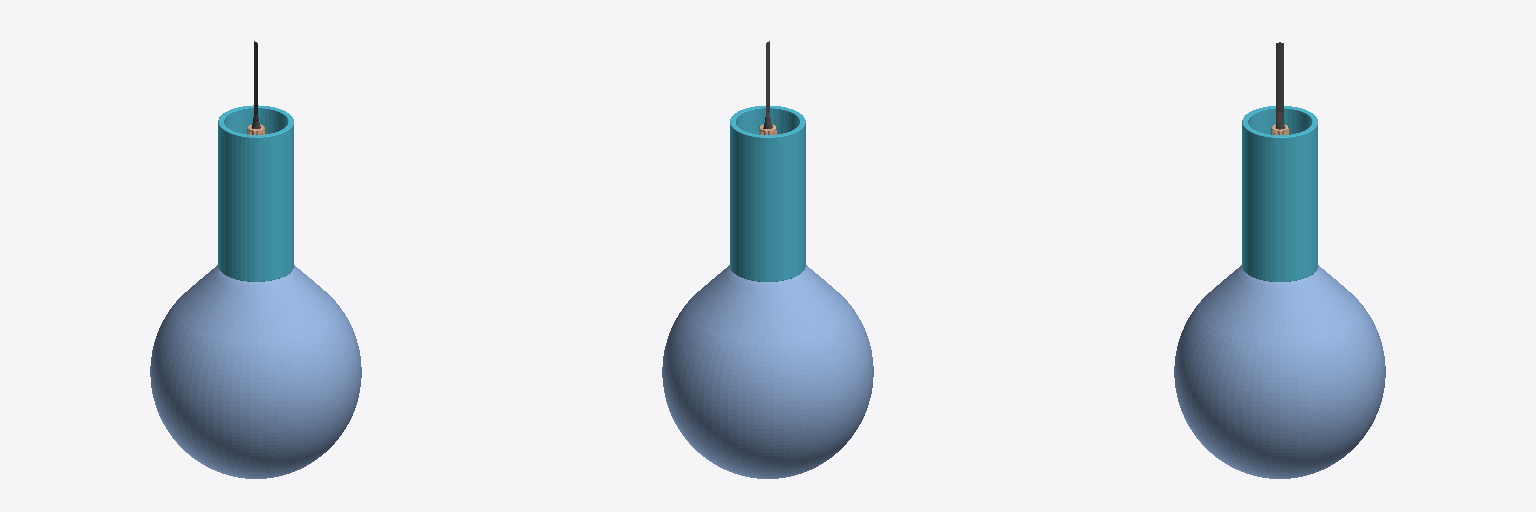
Rendered from Pinch_125_wishnya.obj.
3 renders of one model, left to right at view 1: azimuth 30°, elevation 25°; view 2: azimuth 150°, elevation 25°; view 3: azimuth 270°, elevation 25°, orthographic.
Parts seen in each view (by area): view 1: Shape001, Cylinder007; view 2: Shape001, Cylinder007; view 3: Shape001, Cylinder007, Cylinder004.
Part boxes in pixels (left/top/right/bottom): Shape001: left=150, top=265, right=361, bottom=478; Cylinder007: left=218, top=105, right=293, bottom=281; Shape001: left=662, top=265, right=873, bottom=478; Cylinder007: left=730, top=106, right=805, bottom=281; Shape001: left=1174, top=265, right=1385, bottom=478; Cylinder007: left=1242, top=106, right=1317, bottom=281; Cylinder004: left=1276, top=42, right=1284, bottom=129.
Size of the model in its own units: 127 by 282 by 126.